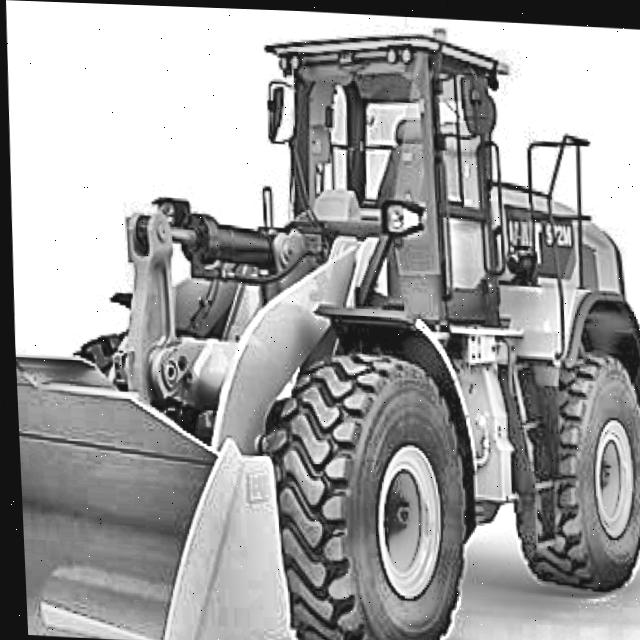buldozerpayloadergrader: (0, 1, 640, 640)
